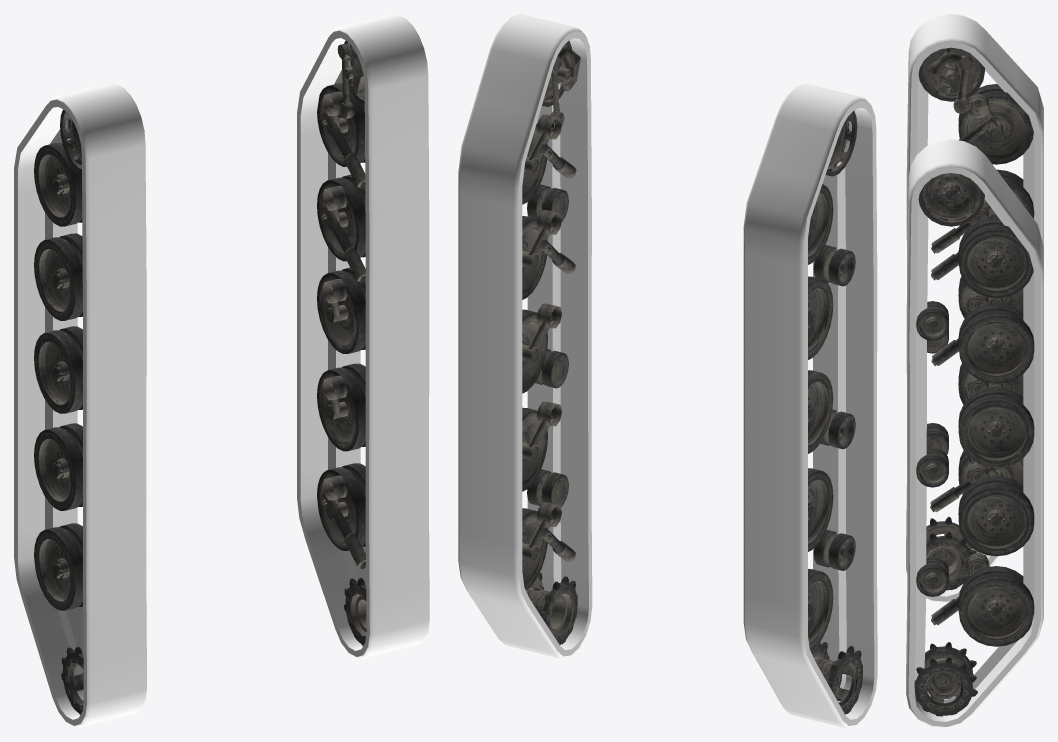
The model's file is Chassis.glb.
3 views of the same model, side by side, from view 1: azimuth 30°, elevation 25°; view 2: azimuth 150°, elevation 25°; view 3: azimuth 270°, elevation 25° (orthographic). The views are drawn at different scales.
Parts seen in each view (by area): view 1: set_3_group_0, set_2_group_0, set_0_group_0, set_1_group_0; view 2: set_3_group_0, set_2_group_0, set_0_group_0, set_1_group_0; view 3: set_0_group_0, set_2_group_0, set_1_group_0, set_3_group_0.
Boxes of the visible parts, bbox=[...] form: set_3_group_0: bbox=[14, 83, 146, 727]; set_2_group_0: bbox=[297, 14, 429, 658]; set_0_group_0: bbox=[317, 40, 366, 645]; set_1_group_0: bbox=[34, 109, 83, 714]; set_3_group_0: bbox=[743, 83, 877, 727]; set_2_group_0: bbox=[458, 14, 592, 658]; set_0_group_0: bbox=[522, 41, 580, 644]; set_1_group_0: bbox=[808, 110, 862, 714]; set_0_group_0: bbox=[914, 173, 1034, 716]; set_2_group_0: bbox=[906, 139, 1043, 727]; set_1_group_0: bbox=[918, 47, 1034, 590]; set_3_group_0: bbox=[906, 14, 1043, 602].
Size of the model in its own units: 3.06 by 5.32 by 1.18.
4 materials, 2 textured.
